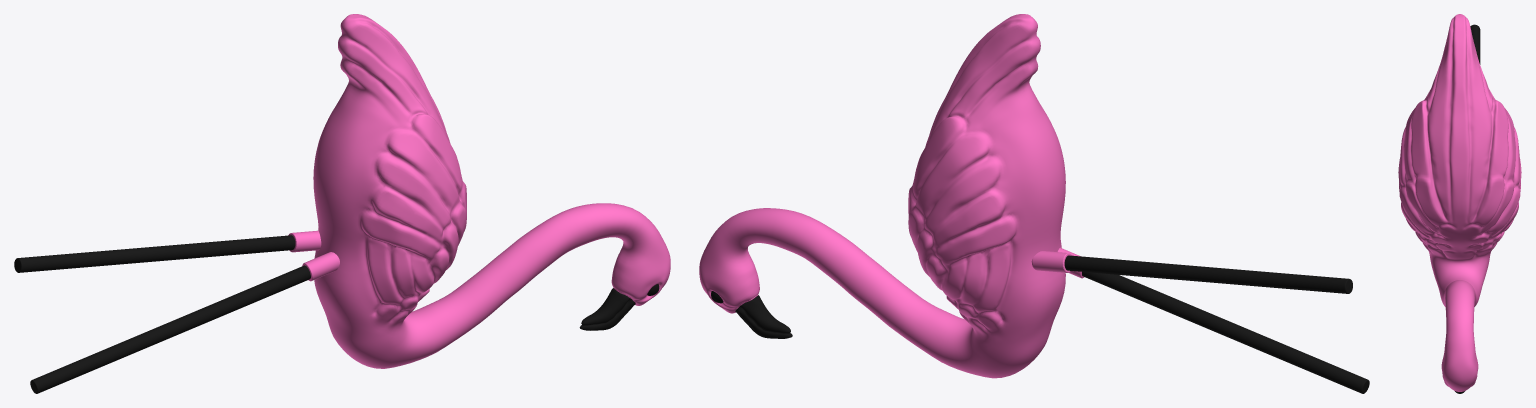
Rendered from Flamingo.fbx.
3 views of the same model, side by side, from view 1: azimuth 30°, elevation 25°; view 2: azimuth 150°, elevation 25°; view 3: azimuth 270°, elevation 25° (orthographic). The views are drawn at different scales.
Parts seen in each view (by area): view 1: 19376_PinkFlamingo_V1; view 2: 19376_PinkFlamingo_V1; view 3: 19376_PinkFlamingo_V1.
Part boxes in pixels (x1,y1,x2,y2): 19376_PinkFlamingo_V1: [14, 14, 670, 393]; 19376_PinkFlamingo_V1: [699, 14, 1369, 393]; 19376_PinkFlamingo_V1: [1398, 14, 1521, 393].
Size of the model in its own units: 148 by 82.92 by 32.61.
